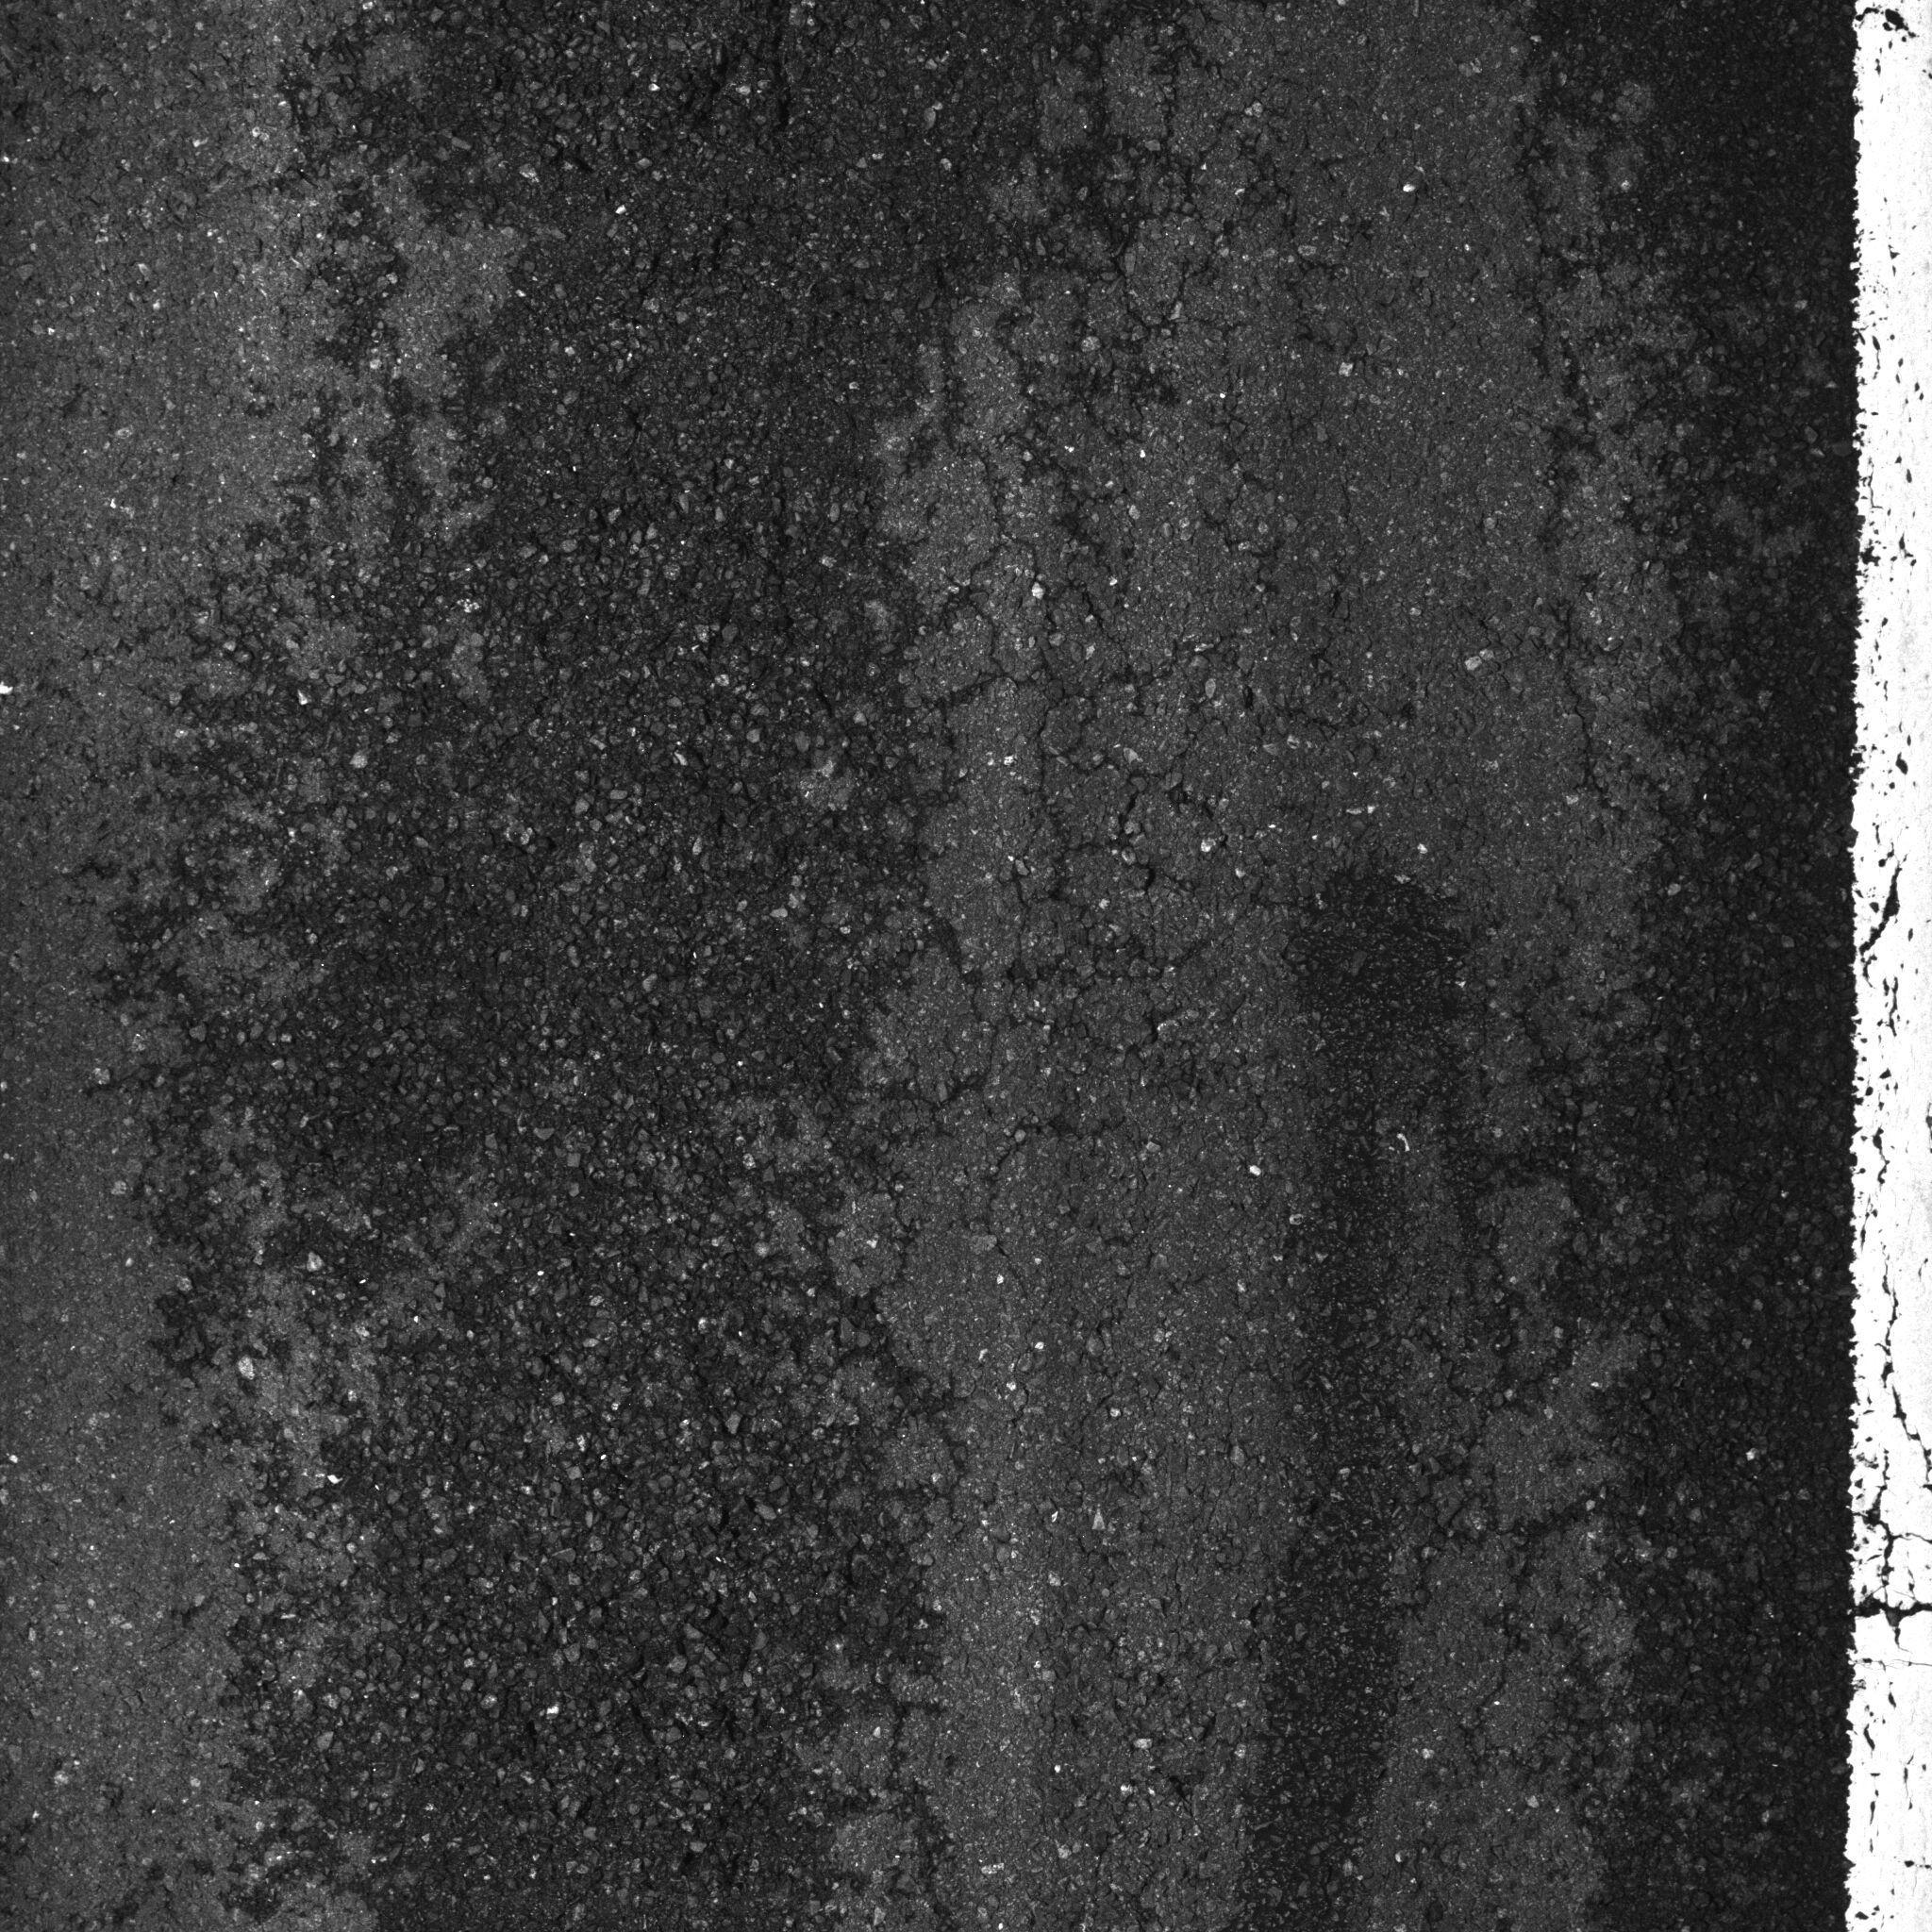alligator: (101, 16, 1389, 1905)
